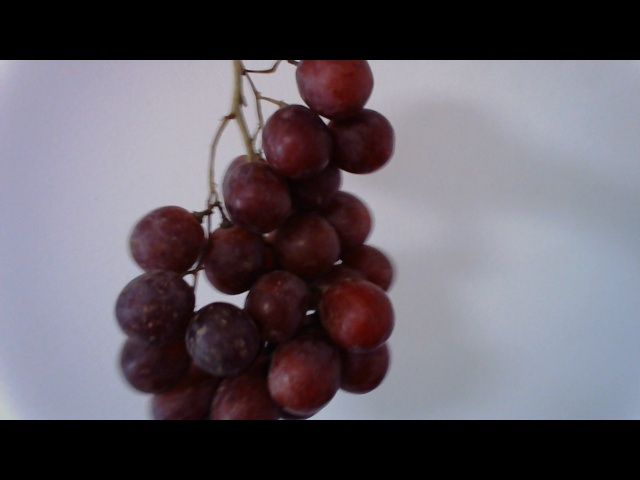grape: (103, 64, 404, 417)
